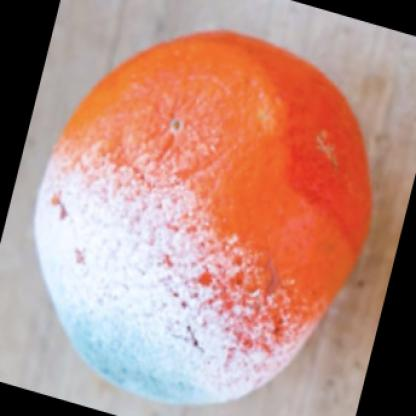rotten: (34, 32, 373, 403)
